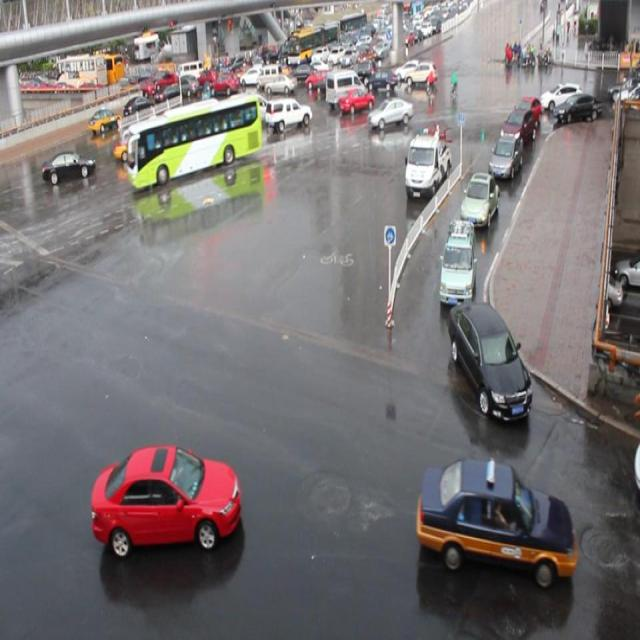bus: (402, 129, 452, 202)
car: (415, 456, 576, 584), (91, 441, 242, 555), (447, 301, 531, 421), (438, 220, 475, 304), (458, 171, 499, 226), (199, 112, 247, 150), (42, 150, 95, 183), (144, 126, 192, 160), (166, 108, 209, 144), (487, 135, 522, 178), (265, 98, 312, 130), (499, 108, 534, 146), (368, 98, 413, 127), (113, 129, 153, 158), (517, 94, 543, 132), (339, 87, 373, 112)
truck: (229, 91, 272, 128), (325, 68, 366, 103)
van: (128, 94, 259, 188)
